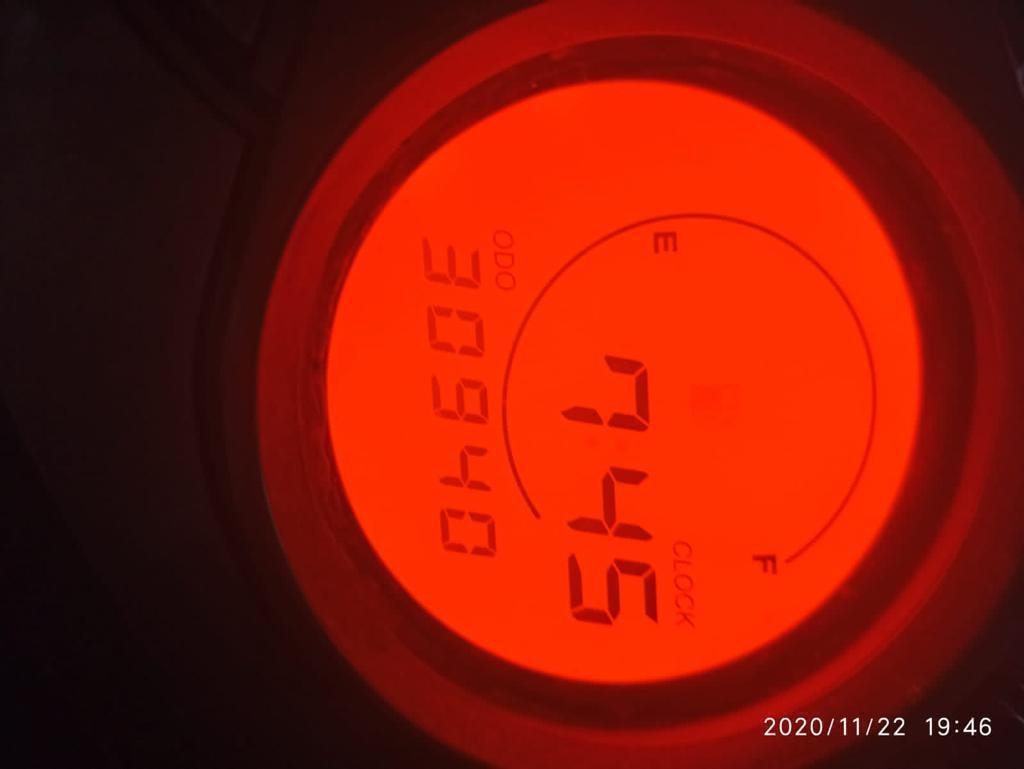0: (425, 304, 486, 358), (437, 507, 496, 557)
3: (420, 237, 481, 289)
4: (564, 465, 652, 545), (437, 442, 491, 492)
5: (562, 554, 661, 629)
7: (553, 349, 655, 434)
9: (430, 374, 488, 424)
X: (650, 229, 680, 255), (752, 552, 780, 575), (492, 229, 514, 249), (494, 271, 515, 291), (493, 251, 514, 268), (673, 611, 695, 627), (673, 575, 694, 591), (672, 540, 693, 556), (674, 593, 693, 610), (671, 559, 692, 571)
odometer: (315, 70, 931, 691)
